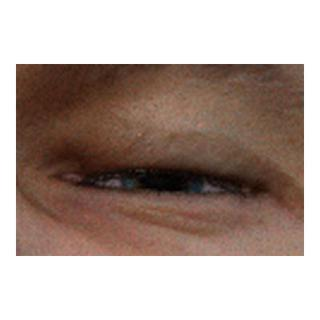pupil: (142, 163, 181, 202)
